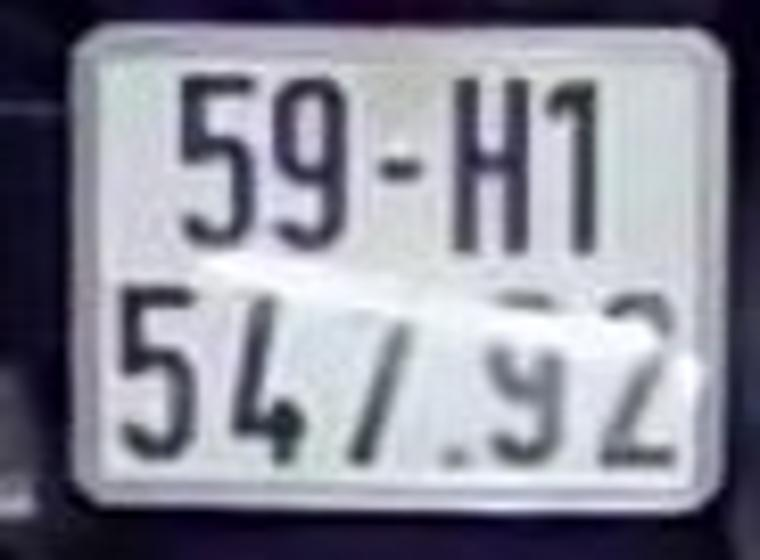-: (379, 148, 431, 203)
.: (436, 436, 482, 477)
1: (548, 69, 612, 262)
2: (597, 288, 689, 472)
4: (231, 285, 308, 463)
5: (117, 282, 206, 472), (173, 68, 262, 251)
7: (332, 291, 425, 471)
9: (481, 287, 574, 469), (273, 69, 356, 256)
H: (446, 68, 539, 263)
